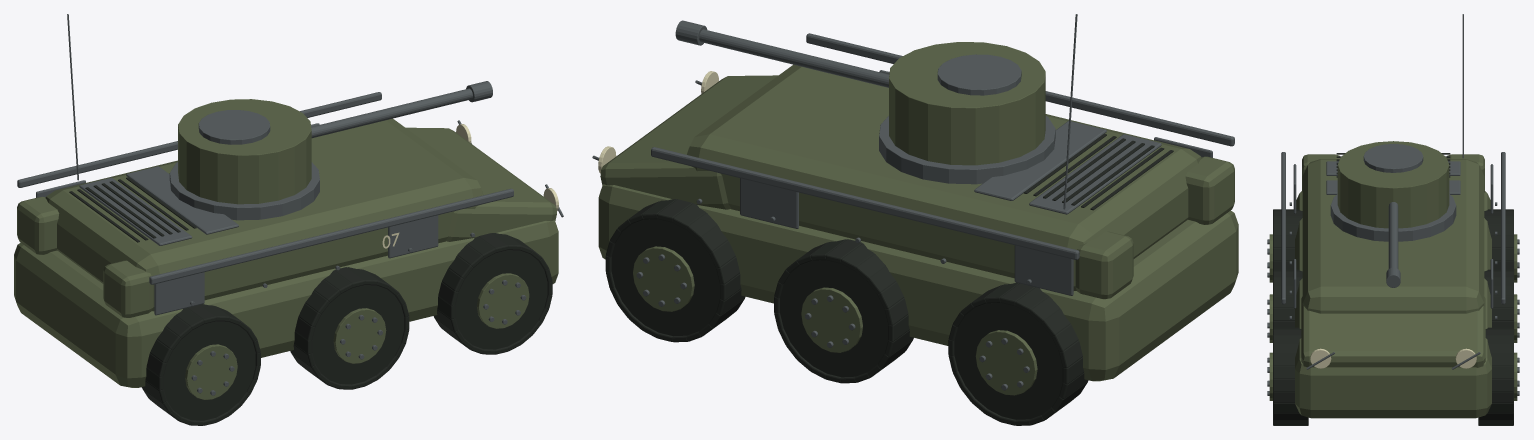
Rendered from ArmoredPatrol.fbx.
3 renders of one model, left to right at view 1: azimuth 30°, elevation 25°; view 2: azimuth 150°, elevation 25°; view 3: azimuth 270°, elevation 25°, orthographic. The views are drawn at different scales.
Parts seen in each view (by area): view 1: ArmoredPatrol; view 2: ArmoredPatrol; view 3: ArmoredPatrol.
Part boxes in pixels (x1=…): ArmoredPatrol: x1=14, y1=14, x2=563, y2=425; ArmoredPatrol: x1=592, y1=14, x2=1238, y2=425; ArmoredPatrol: x1=1267, y1=14, x2=1519, y2=425.
Bounding box in the file's own units: 430 × 253 × 307.
